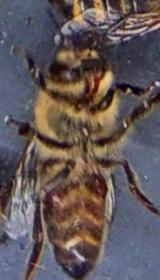varroa_mite: (86, 172, 110, 197), (42, 187, 63, 212)
